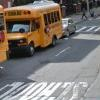Crosswalk: (74, 17, 99, 39)
